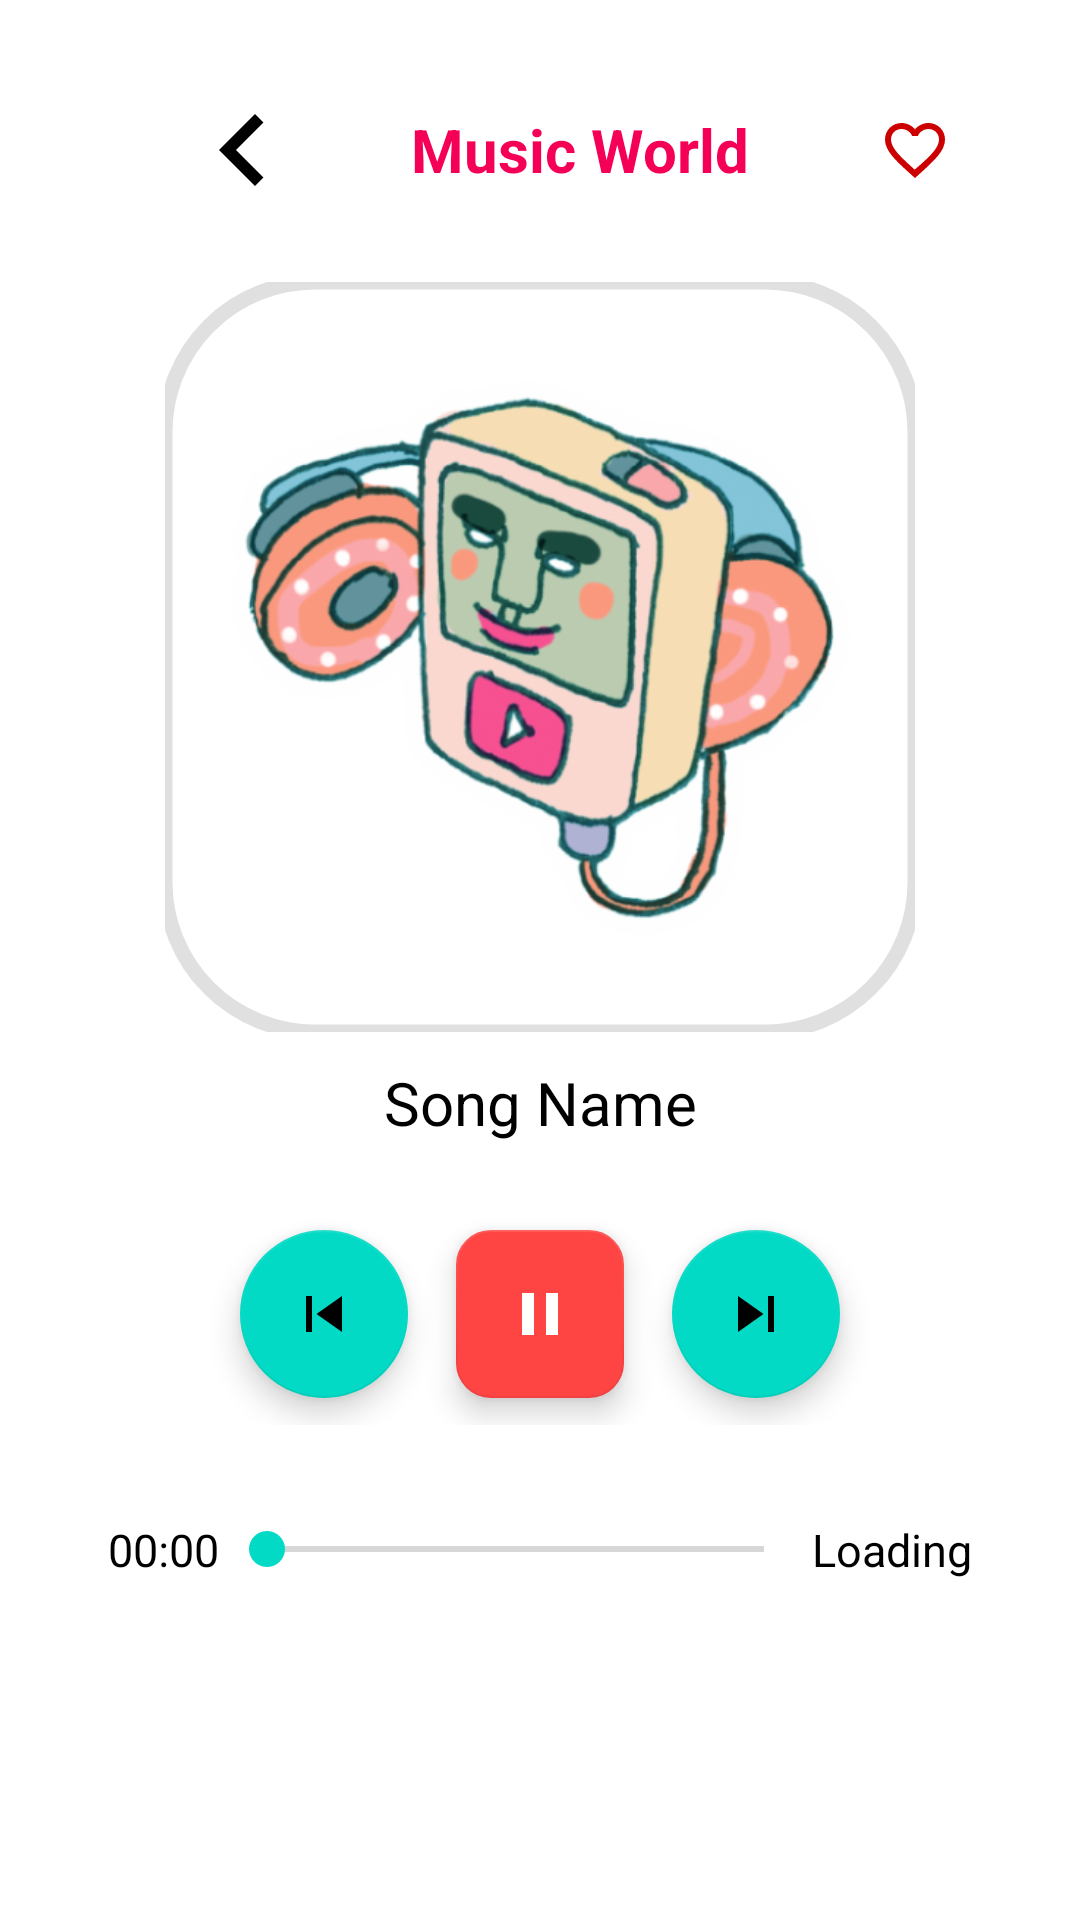

Icons on this 1080 × 1920 Android screen, each with its box as [x1,y1,x2,y2]:
Back: [219,114,264,186]
Favourites: [885,123,945,178]
Next: [672,1230,840,1398]
Previous: [240,1230,408,1398]
